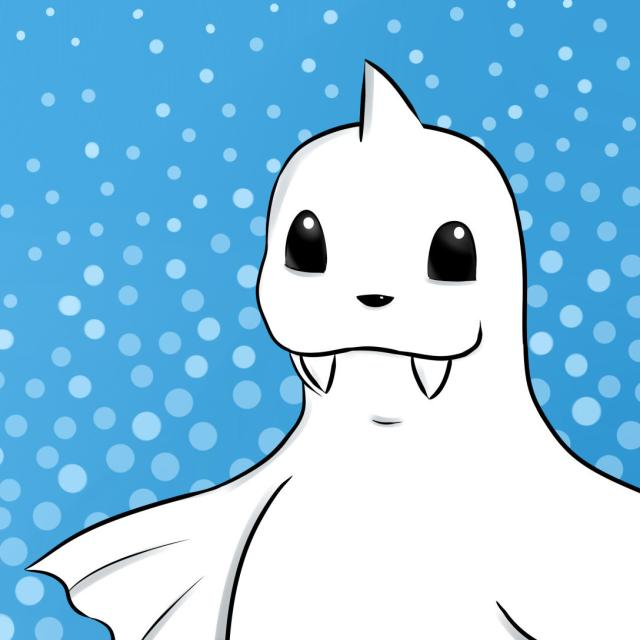Dewgong: (186, 123, 593, 640)
